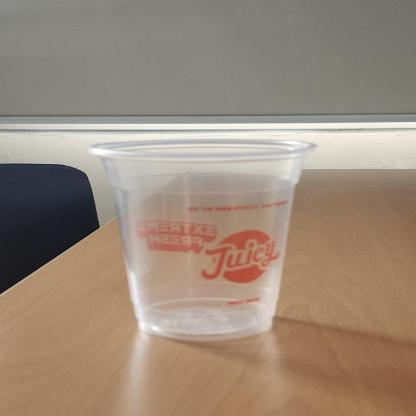Plastic Cup: (88, 137, 320, 343)
